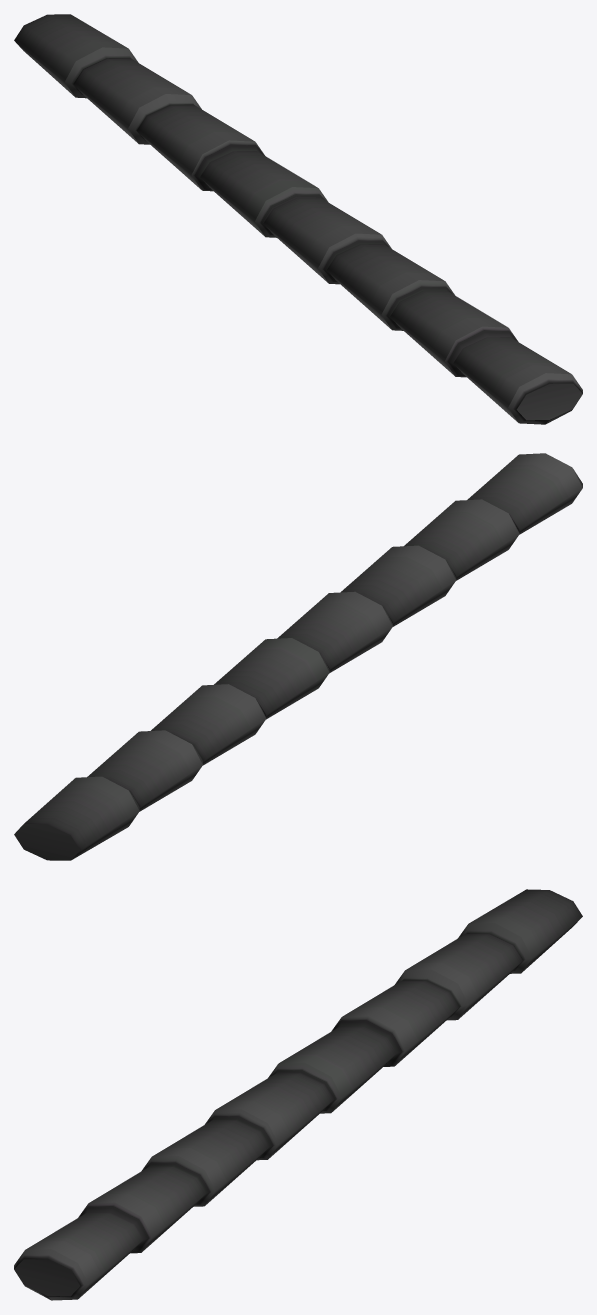
File: SM_House_Roof_01_Trim.obj
3 views of the same model, one above another, from view 1: azimuth 30°, elevation 25°; view 2: azimuth 150°, elevation 25°; view 3: azimuth 330°, elevation 25° (orthographic).
Parts seen in each view (by area): view 1: SM_House_Roof_01_Trim_mat_HouseRoof_01; view 2: SM_House_Roof_01_Trim_mat_HouseRoof_01; view 3: SM_House_Roof_01_Trim_mat_HouseRoof_01.
Boxes of the visible parts, x1,y1,x2,y2 form: SM_House_Roof_01_Trim_mat_HouseRoof_01: (14,14,582,424); SM_House_Roof_01_Trim_mat_HouseRoof_01: (14,453,582,860); SM_House_Roof_01_Trim_mat_HouseRoof_01: (14,889,582,1300).
Size of the model in its own units: 0.4334 by 0.2921 by 5.02.
Materials: 1 (1 with a texture image).
